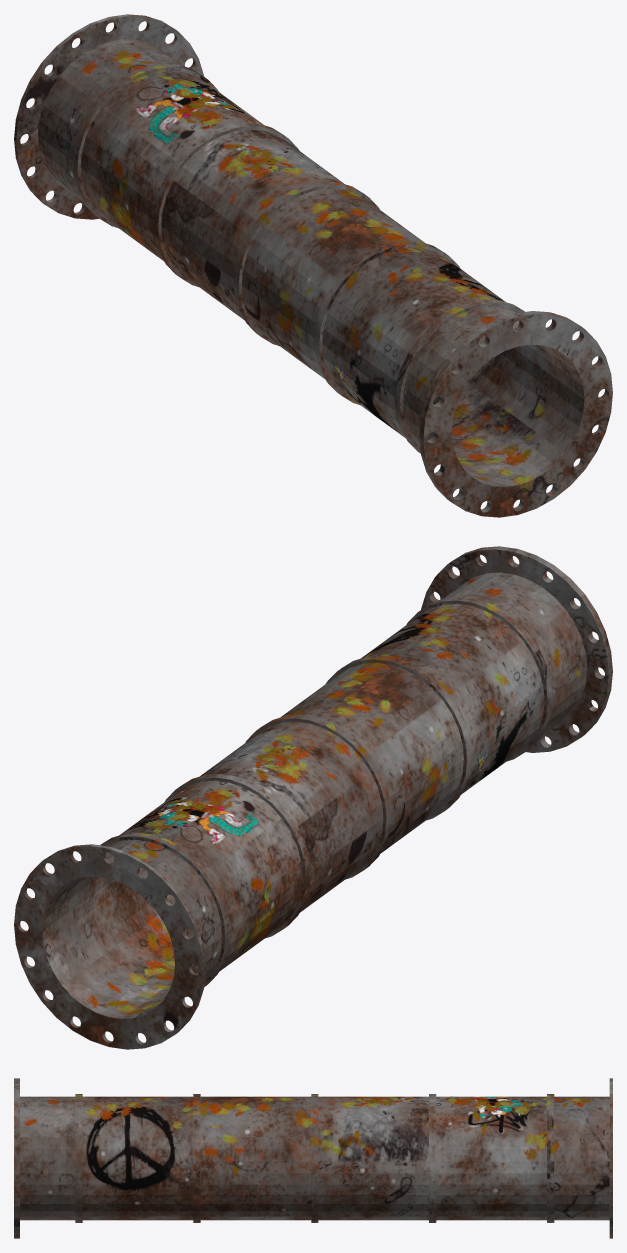
3 renders of one model, top to bottom at view 1: azimuth 30°, elevation 25°; view 2: azimuth 150°, elevation 25°; view 3: azimuth 270°, elevation 25°, orthographic. The views are drawn at different scales.
Visible parts, largest first — view 1: Tube001; view 2: Tube001; view 3: Tube001.
Part boxes in pixels (x1,y1,x2,y2): Tube001: (14, 14, 612, 517); Tube001: (14, 546, 612, 1049); Tube001: (14, 1078, 612, 1238).
Size of the model in its own units: 0.2809 by 0.2809 by 1.05.
Materials: 1 (1 with a texture image).
